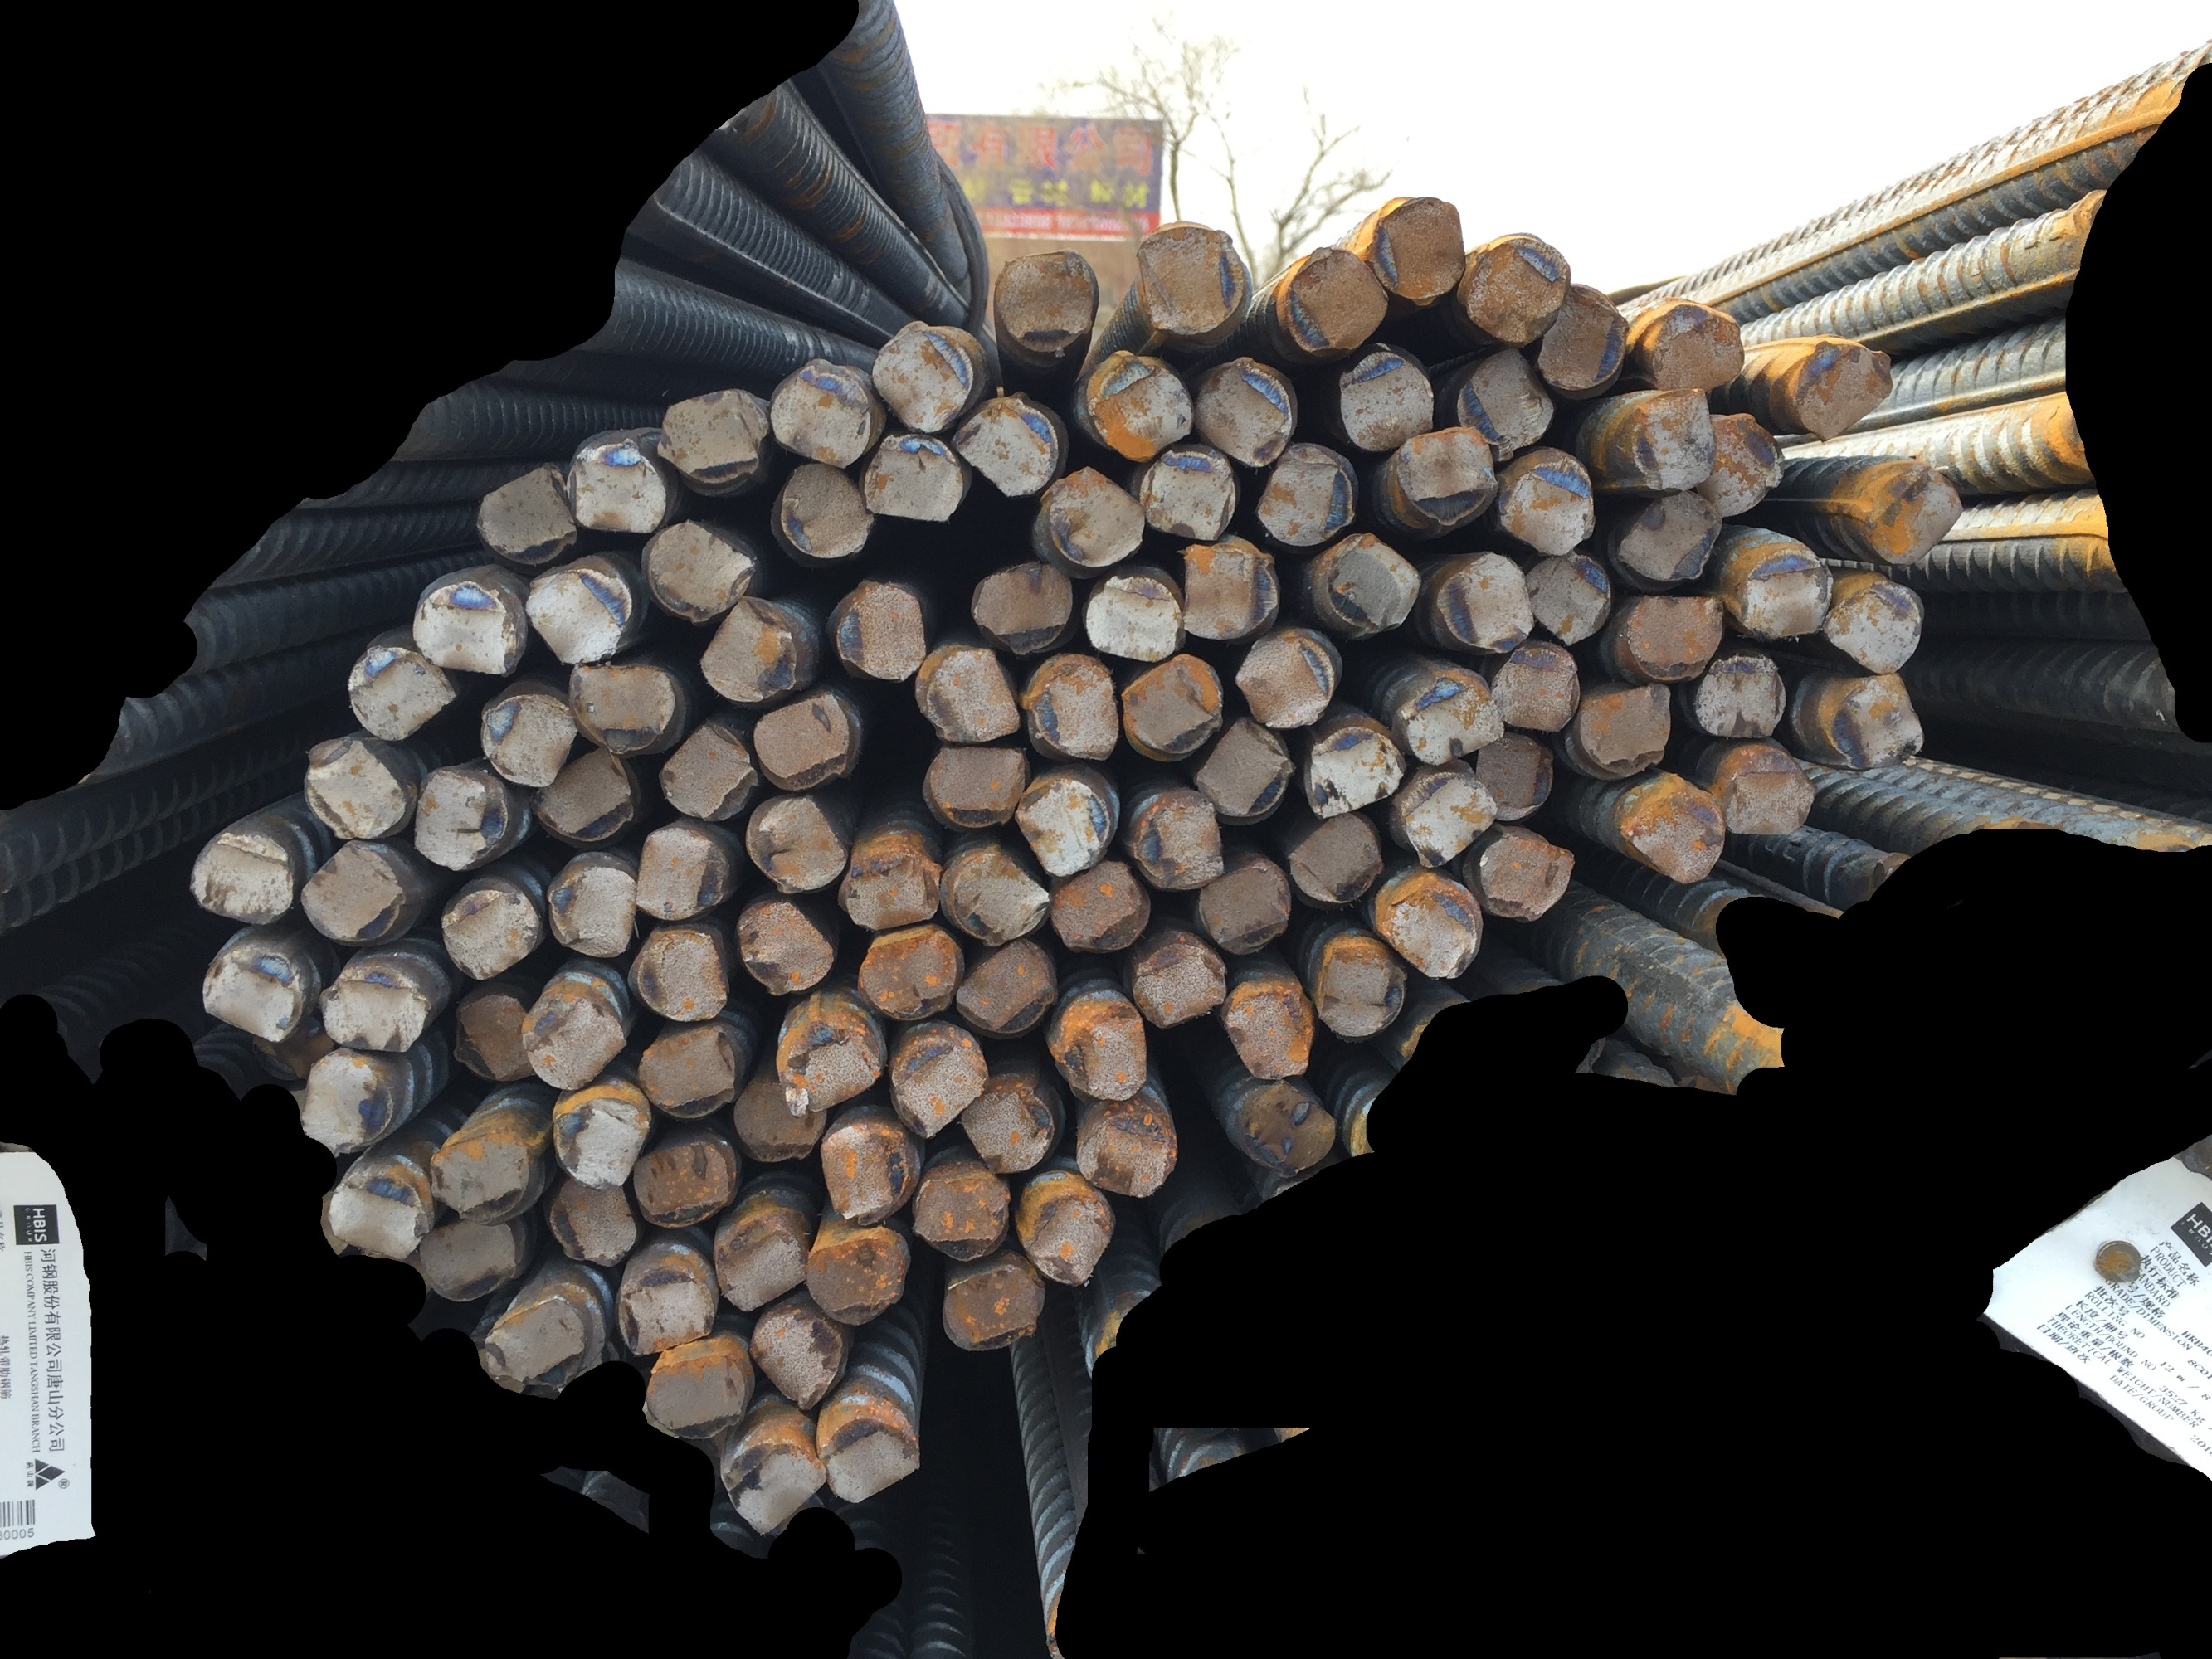rebar: (1130, 218, 1253, 340), (1455, 228, 1576, 347), (518, 554, 638, 671), (1084, 347, 1199, 467), (655, 378, 777, 491), (1842, 462, 1970, 570), (1351, 190, 1471, 301), (1112, 647, 1229, 760), (1785, 331, 1898, 448), (1815, 575, 1937, 683), (1612, 774, 1731, 884), (1189, 352, 1297, 472), (692, 592, 805, 706), (1039, 460, 1152, 573), (1389, 418, 1503, 532), (1279, 244, 1391, 359), (1450, 343, 1565, 455), (1189, 709, 1299, 826), (300, 732, 411, 845), (1046, 988, 1156, 1103), (948, 390, 1063, 500), (866, 324, 978, 436), (295, 835, 408, 945), (525, 737, 638, 847), (1374, 873, 1487, 983), (1250, 439, 1360, 552), (643, 519, 758, 627), (884, 1030, 992, 1145), (1332, 345, 1440, 460), (1429, 542, 1537, 657), (1703, 739, 1822, 843), (1529, 277, 1633, 396), (1609, 483, 1729, 586), (992, 246, 1100, 359), (1124, 782, 1232, 896), (183, 828, 300, 932), (1227, 626, 1337, 735), (943, 842, 1055, 950), (812, 1115, 919, 1229), (1822, 664, 1928, 777), (967, 552, 1082, 657), (563, 655, 680, 758), (1021, 648, 1123, 767), (772, 1016, 882, 1124), (1497, 451, 1605, 561), (765, 362, 877, 469), (746, 688, 858, 795), (342, 640, 458, 741), (1623, 380, 1720, 500), (471, 462, 579, 570), (1009, 772, 1117, 880), (1567, 674, 1675, 782), (516, 988, 626, 1094), (1396, 763, 1503, 873), (432, 882, 544, 986), (1278, 807, 1389, 911), (479, 1293, 593, 1396), (716, 1434, 830, 1537), (1686, 408, 1787, 523), (852, 922, 969, 1021), (917, 734, 1034, 833), (1013, 1185, 1121, 1291), (915, 640, 1021, 748), (1309, 934, 1415, 1042), (741, 791, 851, 896), (950, 934, 1060, 1039), (1619, 587, 1729, 692), (296, 1044, 399, 1155), (1044, 856, 1156, 958), (852, 429, 967, 528), (655, 718, 762, 824), (1175, 538, 1281, 645), (408, 573, 512, 681), (1640, 295, 1748, 399), (633, 1021, 743, 1124), (746, 1304, 847, 1415), (1734, 538, 1841, 643), (629, 924, 737, 1026), (730, 896, 838, 999), (1218, 983, 1327, 1086), (1396, 666, 1504, 769), (197, 943, 307, 1044), (561, 437, 671, 538), (629, 1133, 741, 1232), (798, 1230, 910, 1330), (610, 1263, 723, 1361), (774, 457, 879, 561), (1232, 1072, 1339, 1175), (546, 1093, 654, 1194), (643, 1344, 751, 1445), (1325, 530, 1424, 640), (474, 688, 577, 793), (425, 1126, 532, 1227), (1518, 542, 1619, 648), (1473, 828, 1581, 927), (933, 1258, 1046, 1352), (1137, 443, 1239, 545), (408, 763, 507, 870), (833, 580, 933, 687), (1124, 938, 1231, 1037), (1192, 861, 1299, 960), (1300, 720, 1407, 819), (415, 1211, 525, 1307), (1070, 1107, 1182, 1201), (629, 823, 730, 925), (709, 1215, 811, 1317), (1079, 570, 1187, 666), (814, 1413, 926, 1506), (542, 859, 640, 964), (1482, 636, 1579, 741), (326, 1169, 432, 1265), (906, 1166, 1013, 1262), (314, 969, 432, 1054), (1686, 648, 1790, 744), (952, 1086, 1056, 1180), (542, 1175, 643, 1269), (730, 1075, 831, 1166), (446, 988, 539, 1084), (840, 850, 945, 934), (1469, 725, 1557, 824), (244, 1014, 340, 1082)
